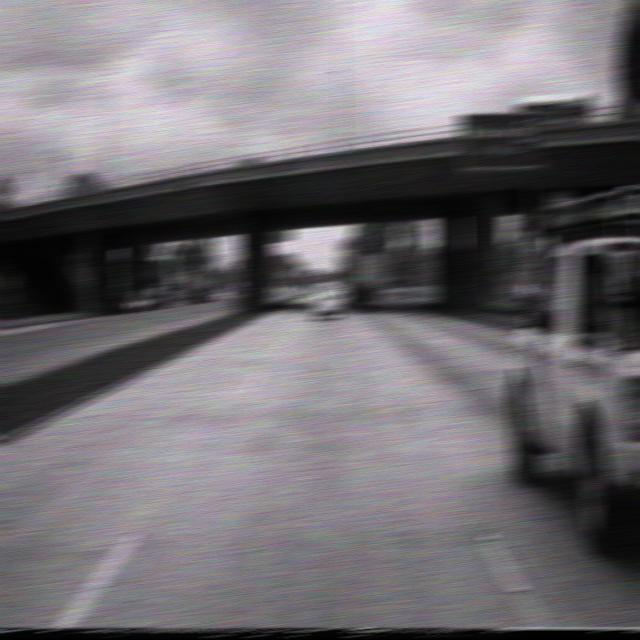speedLimit65: (520, 228, 545, 271)
